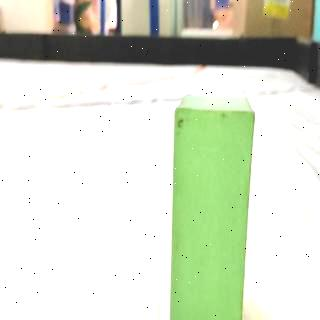greenbox: (172, 93, 256, 320)
